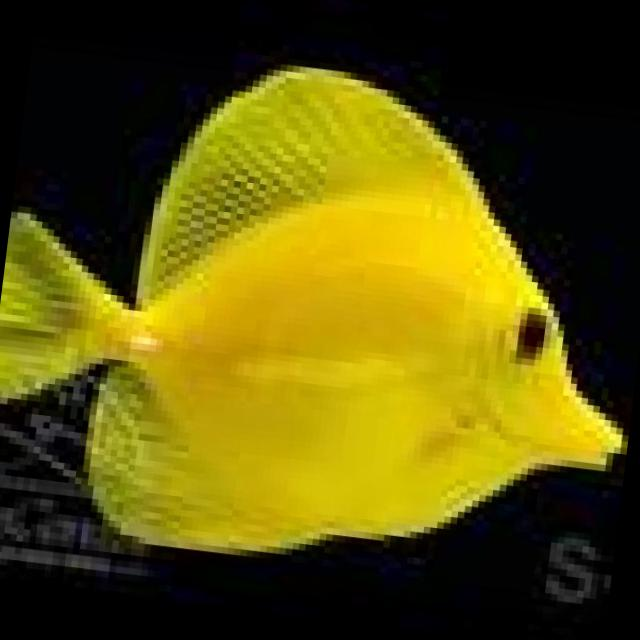YellowTang: (0, 34, 640, 609)
